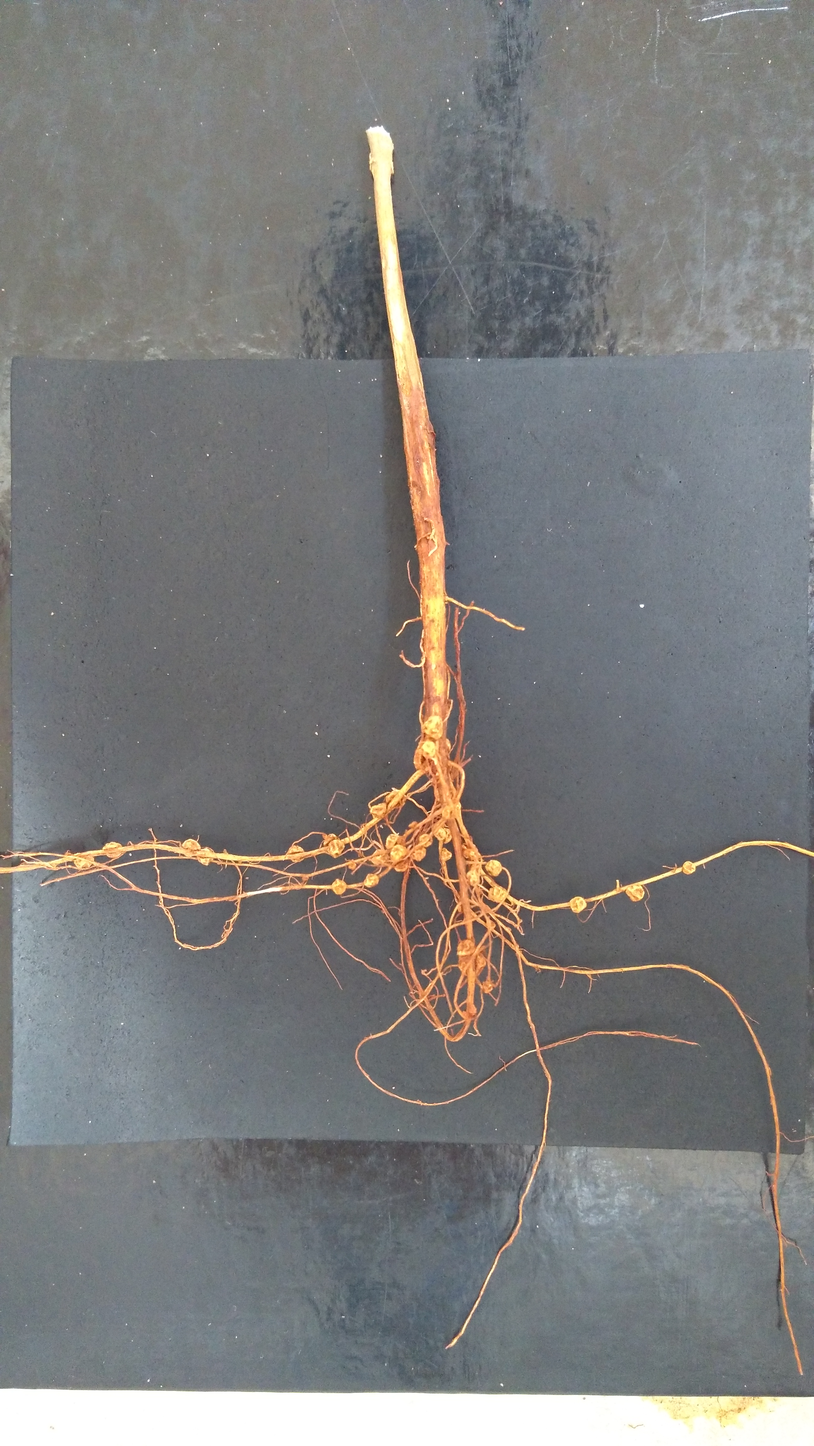nodule: (413, 736, 452, 771), (456, 950, 487, 978), (420, 715, 444, 740), (455, 937, 477, 958), (196, 846, 216, 868), (383, 790, 405, 809), (624, 884, 646, 903), (568, 895, 588, 915), (440, 803, 461, 822), (102, 841, 124, 859), (484, 858, 503, 878), (326, 839, 346, 858), (487, 885, 508, 903), (433, 785, 454, 803), (287, 844, 306, 863), (389, 844, 408, 863), (330, 877, 347, 896), (370, 848, 389, 865), (462, 842, 479, 861), (369, 802, 387, 819), (420, 740, 436, 759), (73, 856, 96, 869), (409, 846, 427, 862), (466, 869, 482, 887), (321, 833, 341, 847), (364, 872, 381, 888), (681, 860, 697, 877), (182, 838, 201, 852), (384, 833, 399, 850), (419, 834, 434, 849), (393, 860, 409, 873), (442, 827, 453, 845), (480, 980, 494, 994), (434, 826, 447, 841), (441, 847, 453, 862), (467, 1003, 478, 1017), (485, 918, 496, 930), (348, 859, 358, 872), (301, 874, 310, 881)
